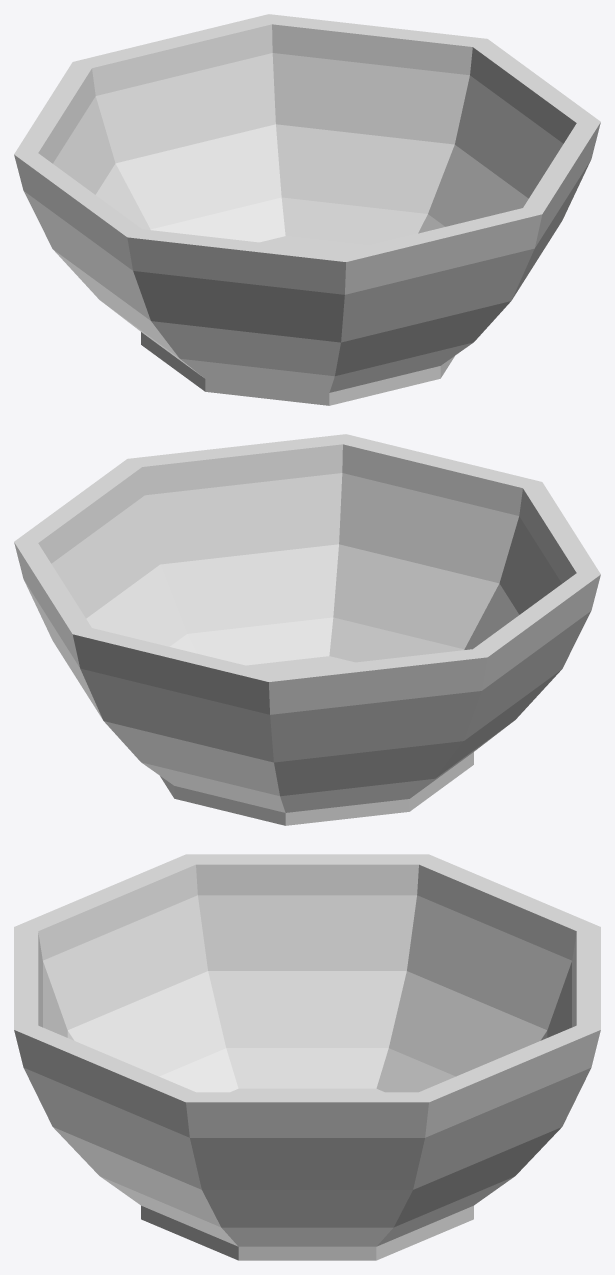
Rendered from Plate5_C1.fbx.
3 renders of one model, top to bottom at view 1: azimuth 30°, elevation 25°; view 2: azimuth 150°, elevation 25°; view 3: azimuth 270°, elevation 25°, orthographic. The views are drawn at different scales.
Visible parts, largest first — view 1: Plate5_C1; view 2: Plate5_C1; view 3: Plate5_C1.
Boxes of the visible parts, x1=… form: Plate5_C1: x1=14, y1=14, x2=600, y2=405; Plate5_C1: x1=14, y1=434, x2=600, y2=825; Plate5_C1: x1=14, y1=854, x2=600, y2=1260.
Bounding box in the file's own units: 23.87 × 9.51 × 23.87.
